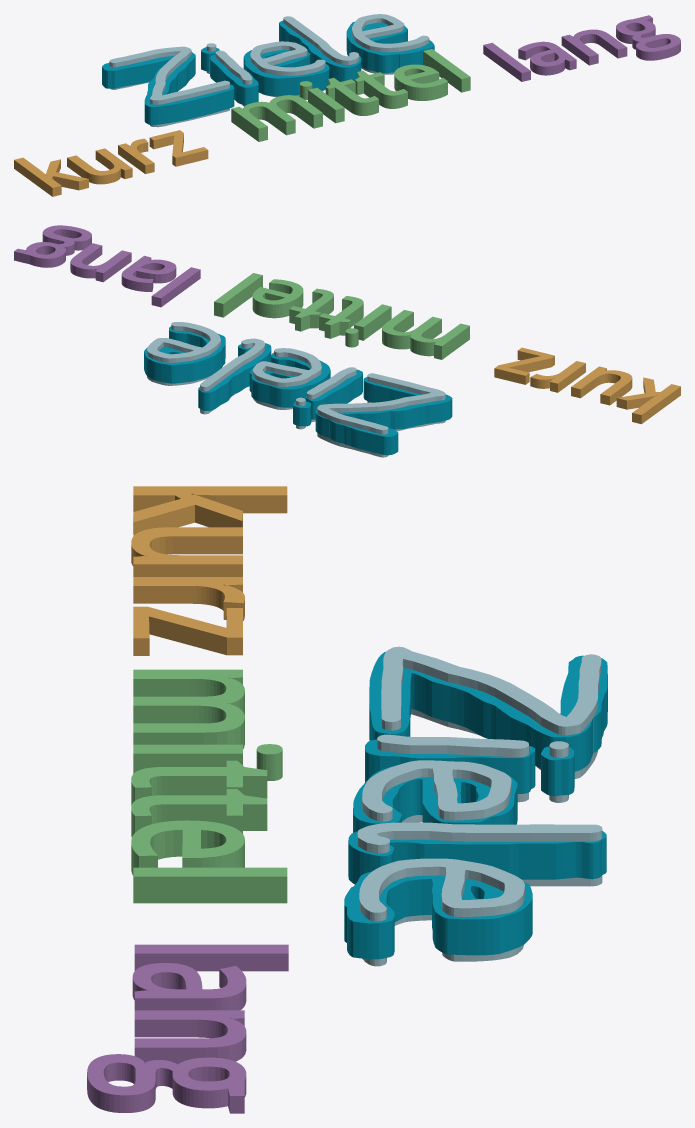
File: ziele.glb
3 renders of one model, top to bottom at view 1: azimuth 30°, elevation 25°; view 2: azimuth 150°, elevation 25°; view 3: azimuth 270°, elevation 25°, orthographic. The views are drawn at different scales.
Parts seen in each view (by area): view 1: Mesh_Mesh_head_geo.001_lambert2SG.001; view 2: Mesh_Mesh_head_geo.001_lambert2SG.001; view 3: Mesh_Mesh_head_geo.001_lambert2SG.001.
Boxes of the visible parts, box(x1,y1,x2,y2) form: Mesh_Mesh_head_geo.001_lambert2SG.001: box(14, 14, 680, 196); Mesh_Mesh_head_geo.001_lambert2SG.001: box(14, 225, 680, 457); Mesh_Mesh_head_geo.001_lambert2SG.001: box(87, 486, 607, 1113).
Bounding box in the file's own units: 194 × 10.59 × 70.
